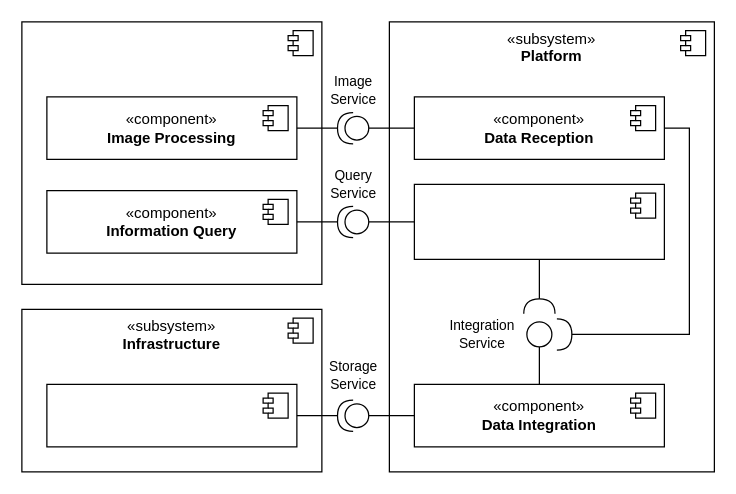
The diagram is 736 pixels wide and 494 high, and some of its shapes have lost their labels. The box of each missing label's shape, as (x1, y1, x2, y2) in pixels:
«component » Data Storage: (46, 383, 297, 447)
«component » Unified Image Computing: (413, 183, 664, 259)
«subsystem » Software Application: (21, 21, 322, 284)
